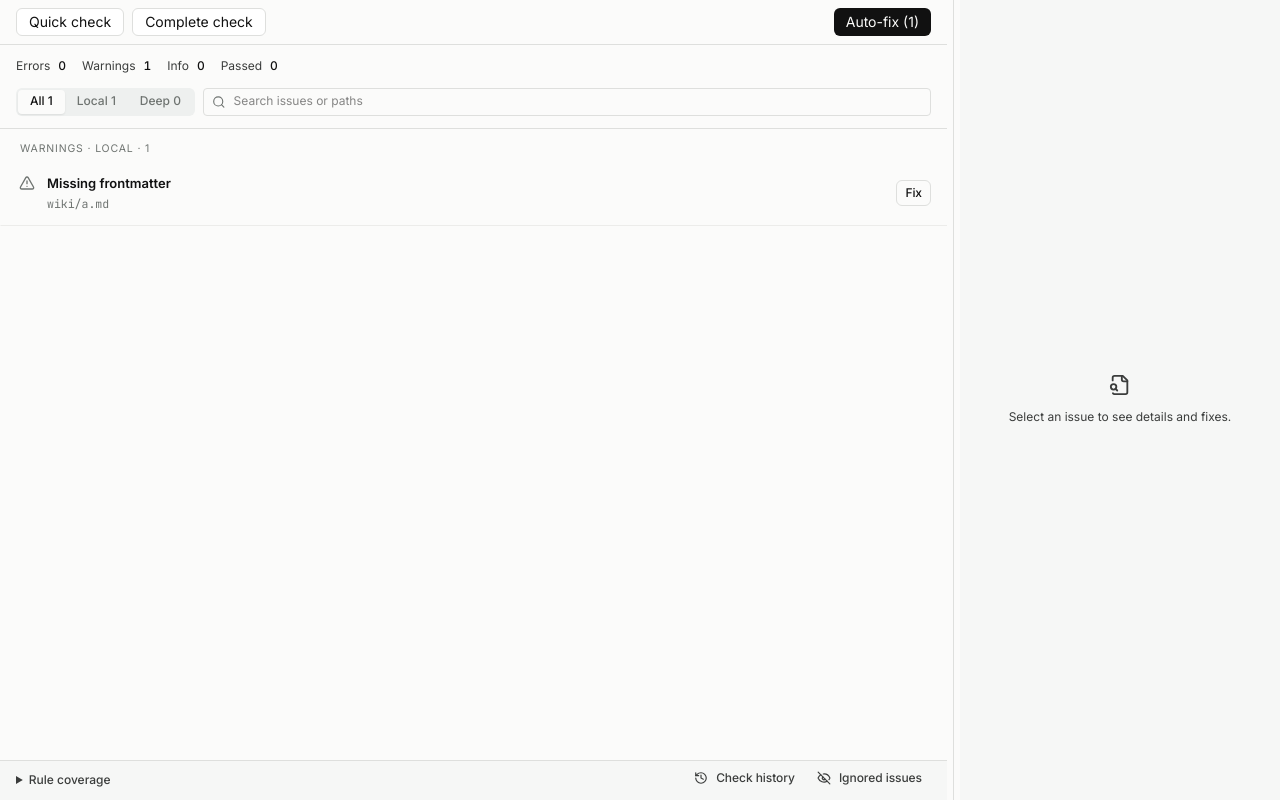
Test: LintView › enables private history once and resumes batch confirmation (repository=false)
This screenshot has width=1280, height=800.
Click the button "Auto-fix (1)" at (882, 22), box [834,8,931,36]
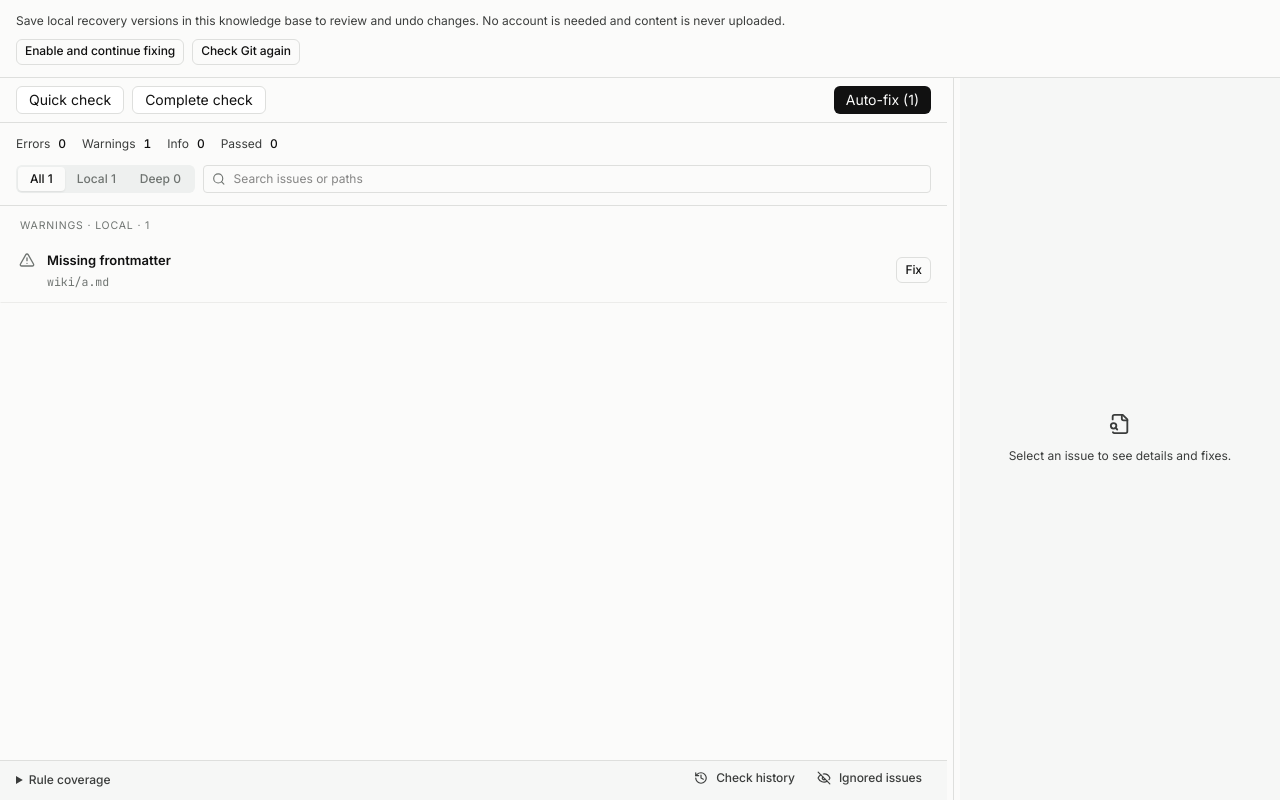
Result: the text "Save local recovery versions" is shown at [16,13,785,28]
Click the button "Enable and continue fixing" at (100, 52), box [16,39,184,65]
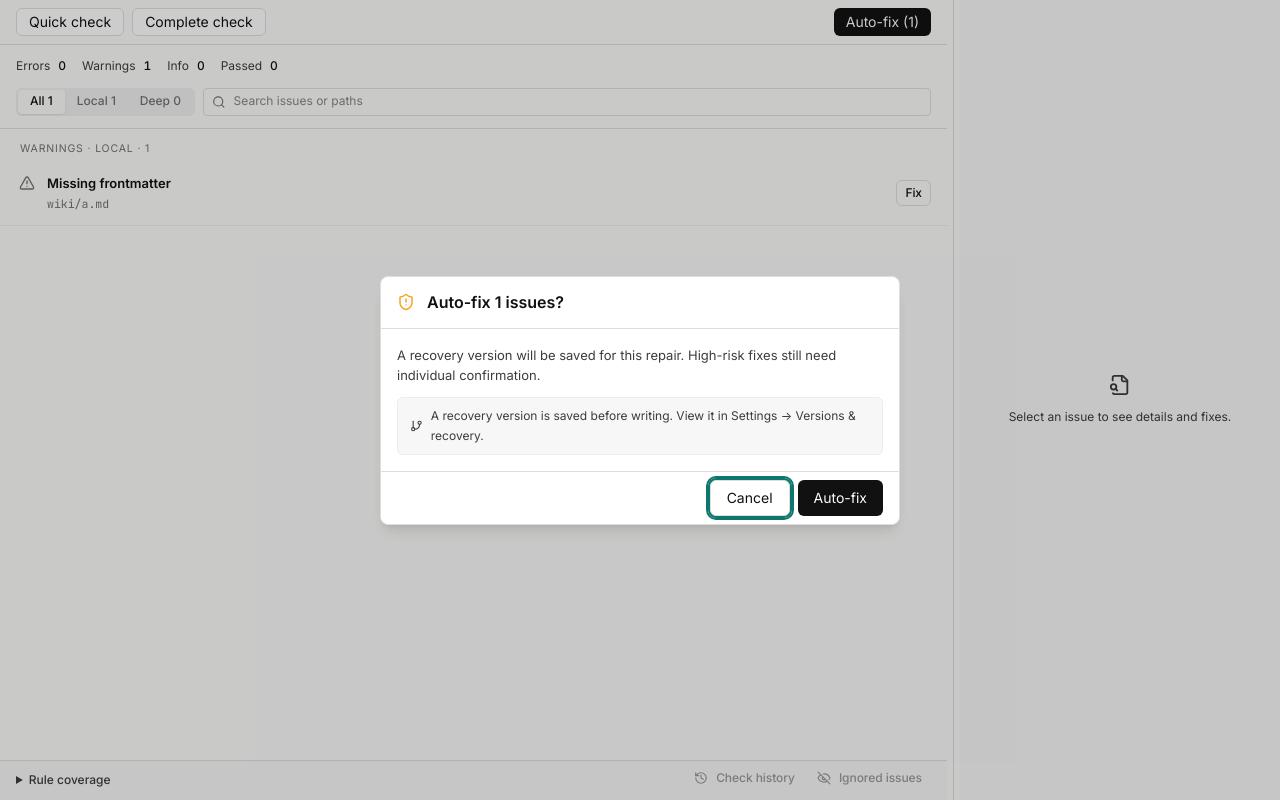
Result: the dialog "Auto-fix 1 issues?" is shown
